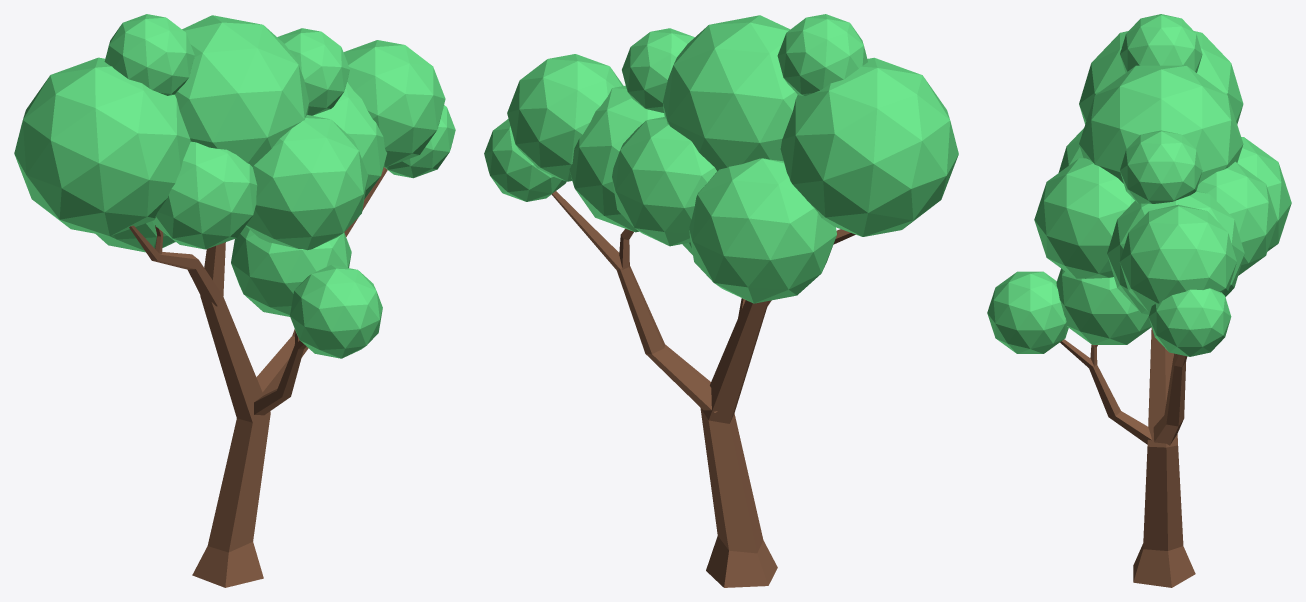
File: tree_h_2.fbx
3 renders of one model, left to right at view 1: azimuth 30°, elevation 25°; view 2: azimuth 150°, elevation 25°; view 3: azimuth 270°, elevation 25°, orthographic. The views are drawn at different scales.
Visible parts, largest first — view 1: tree_height.001; view 2: tree_height.001; view 3: tree_height.001.
Part boxes in pixels (x1,y1,x2,y2): tree_height.001: [14, 14, 455, 587]; tree_height.001: [484, 14, 958, 587]; tree_height.001: [987, 14, 1291, 587].
Bounding box in the file's own units: 552 × 689 × 365.
